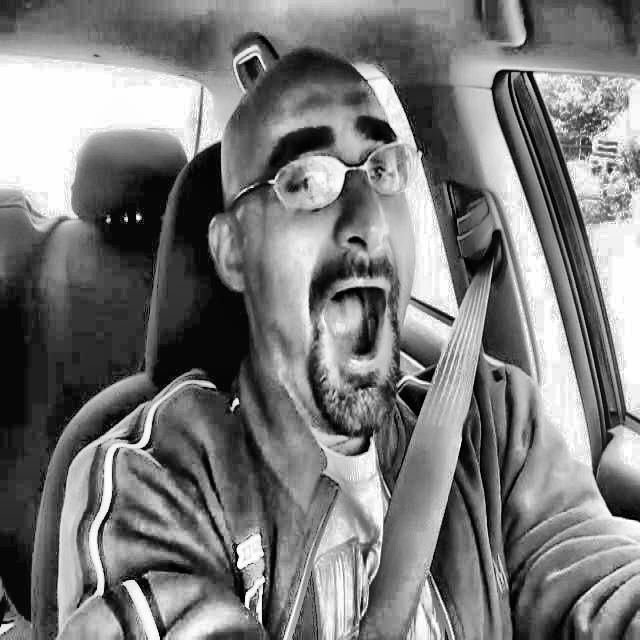open_eyes: (278, 157, 339, 205), (362, 150, 410, 189)
open_mouth: (302, 271, 398, 385)
